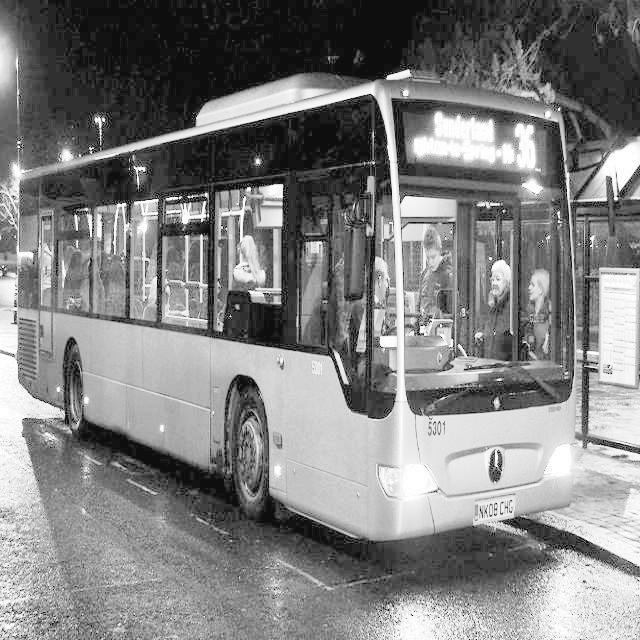Bus: (1, 69, 582, 590)
